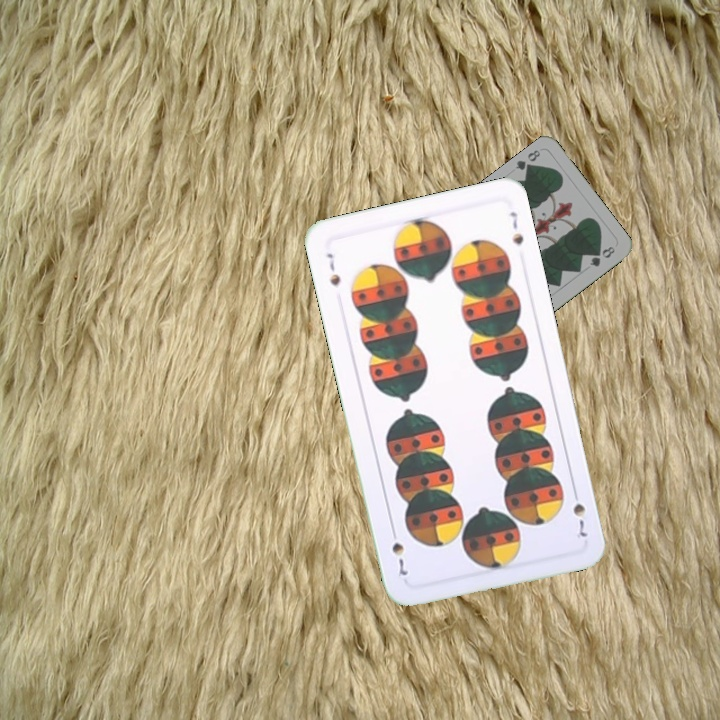G8: (511, 146, 543, 176)
S7: (569, 484, 591, 541), (322, 249, 343, 289)
